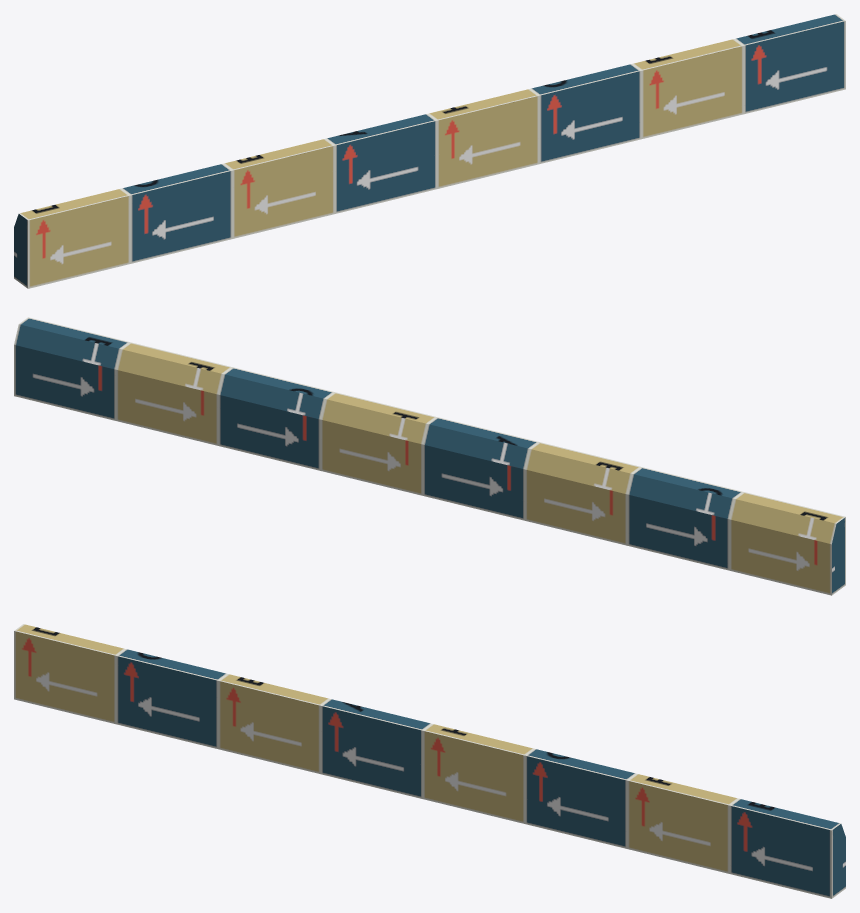
Rendered from SKIRTING_Straight.fbx.
3 views of the same model, one above another, from view 1: azimuth 30°, elevation 25°; view 2: azimuth 150°, elevation 25°; view 3: azimuth 330°, elevation 25° (orthographic).
Parts seen in each view (by area): view 1: SKIRTING_Straight; view 2: SKIRTING_Straight; view 3: SKIRTING_Straight.
Part boxes in pixels (left/top/right/bottom): SKIRTING_Straight: left=14, top=14, right=845, bottom=288; SKIRTING_Straight: left=14, top=317, right=845, bottom=595; SKIRTING_Straight: left=14, top=624, right=845, bottom=898.
Size of the model in its own units: 200 by 16 by 6.
Materials: 1 (1 with a texture image).
